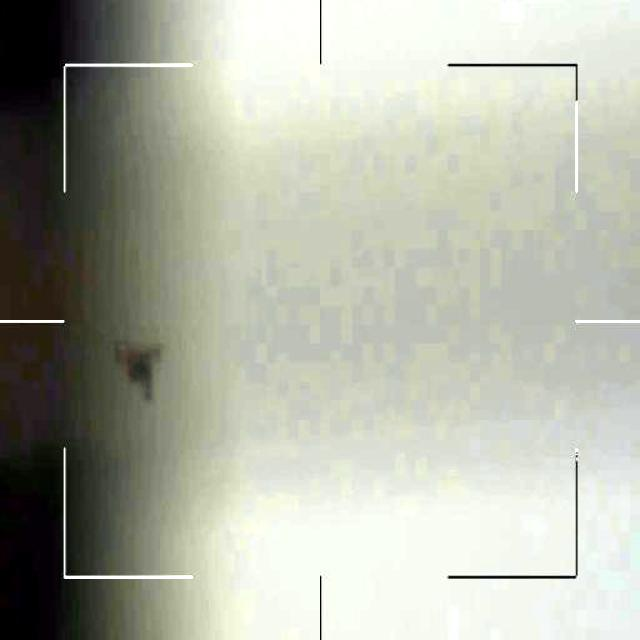bird: (116, 336, 169, 408)
